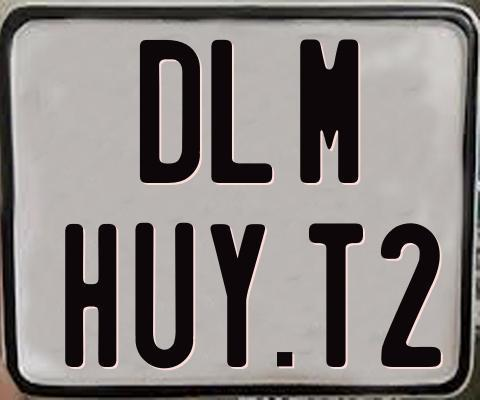2: (381, 222, 447, 370)
D: (137, 38, 199, 185)
H: (64, 223, 120, 368)
L: (209, 38, 275, 184)
M: (298, 36, 356, 185)
T: (307, 221, 366, 371)
U: (133, 221, 193, 372)
Y: (209, 223, 266, 370)
